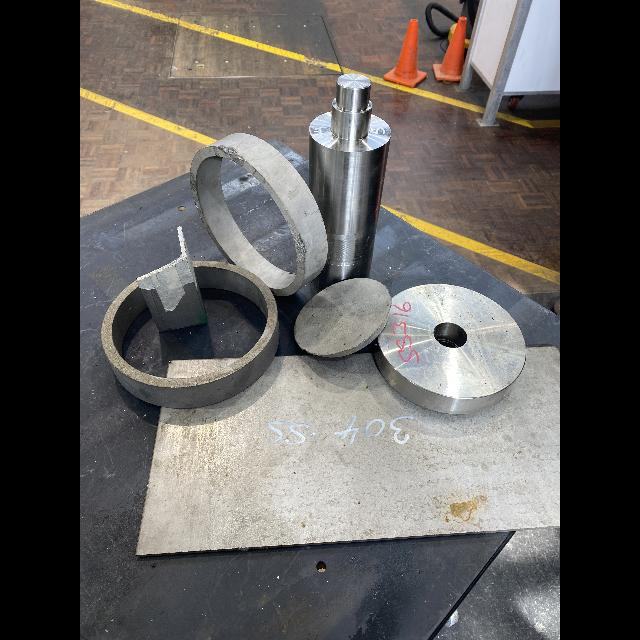Stainless Steel: (136, 347, 560, 555), (101, 261, 279, 408), (190, 133, 328, 296), (374, 284, 526, 414), (309, 73, 391, 291), (294, 278, 391, 357), (140, 273, 208, 333), (136, 226, 186, 281), (167, 358, 243, 379)
